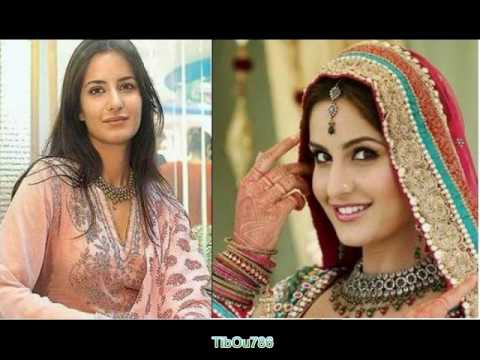bad: (282, 110, 411, 239), (80, 73, 142, 135)
